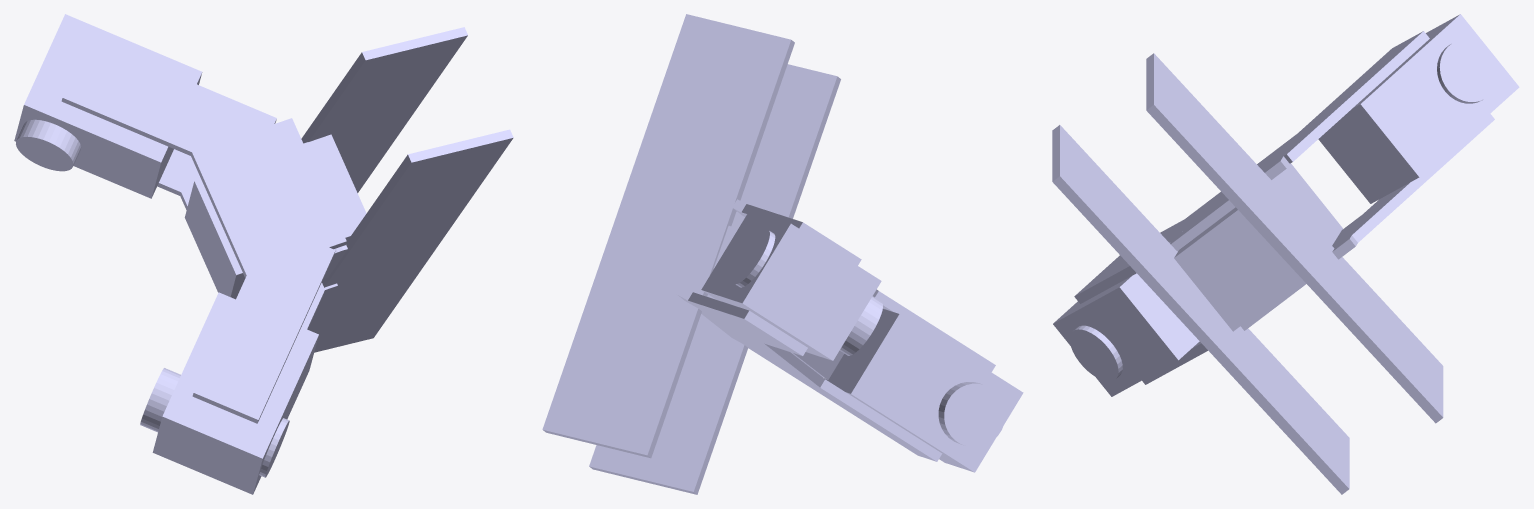
The model's file is dbAlpha_URDF_Thorax__105__.dae.
3 views of the same model, side by side, from view 1: azimuth 30°, elevation 25°; view 2: azimuth 150°, elevation 25°; view 3: azimuth 270°, elevation 25° (orthographic). The views are drawn at different scales.
Parts seen in each view (by area): view 1: Node_0x7f7afcd6d9a0 (×11); view 2: Node_0x7f7afcd6d9a0 (×12); view 3: Node_0x7f7afcd6d9a0 (×13).
Part boxes in pixels (x1,y1,x2,y2): Node_0x7f7afcd6d9a0 (×11): [14, 14, 513, 494]; Node_0x7f7afcd6d9a0 (×12): [542, 14, 1023, 494]; Node_0x7f7afcd6d9a0 (×13): [1052, 14, 1519, 494].
Size of the model in its own units: 0.114 by 0.1363 by 0.1411.
